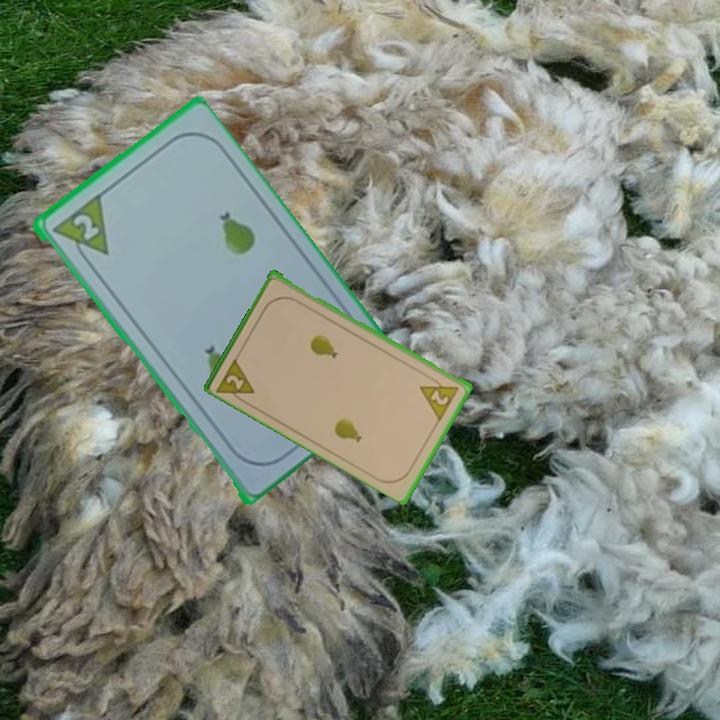2p: (47, 191, 111, 270), (214, 353, 258, 407), (416, 372, 462, 422)
